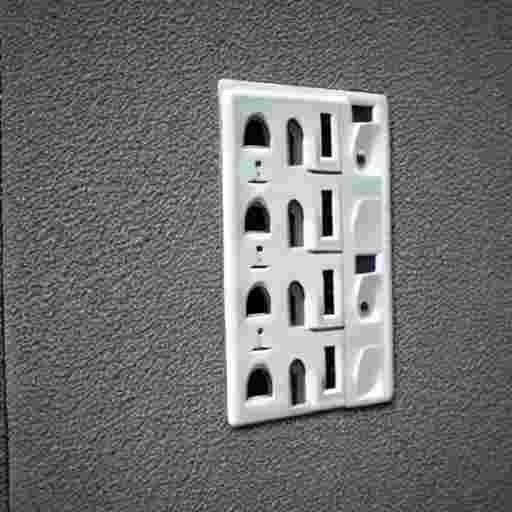power outlet: (218, 79, 392, 425)
